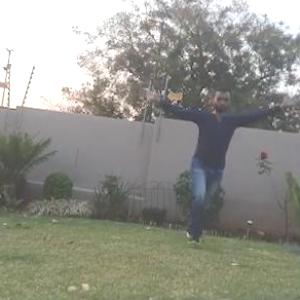takeoff: (130, 84, 276, 252)
